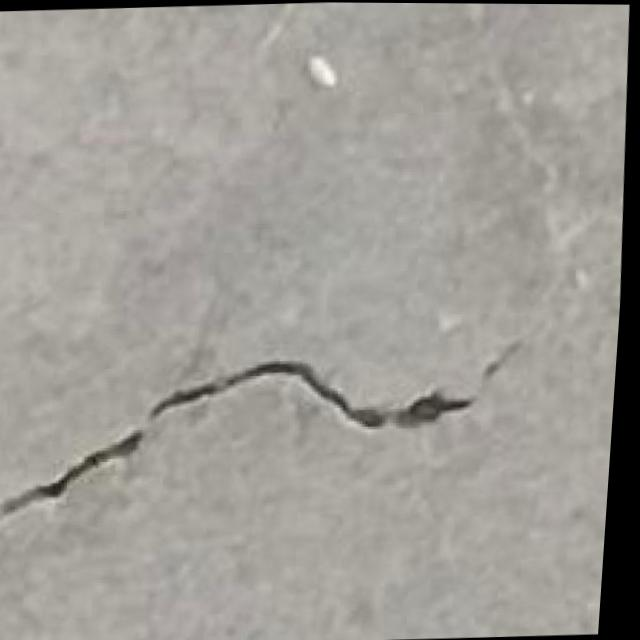Crack: (0, 312, 563, 548)
